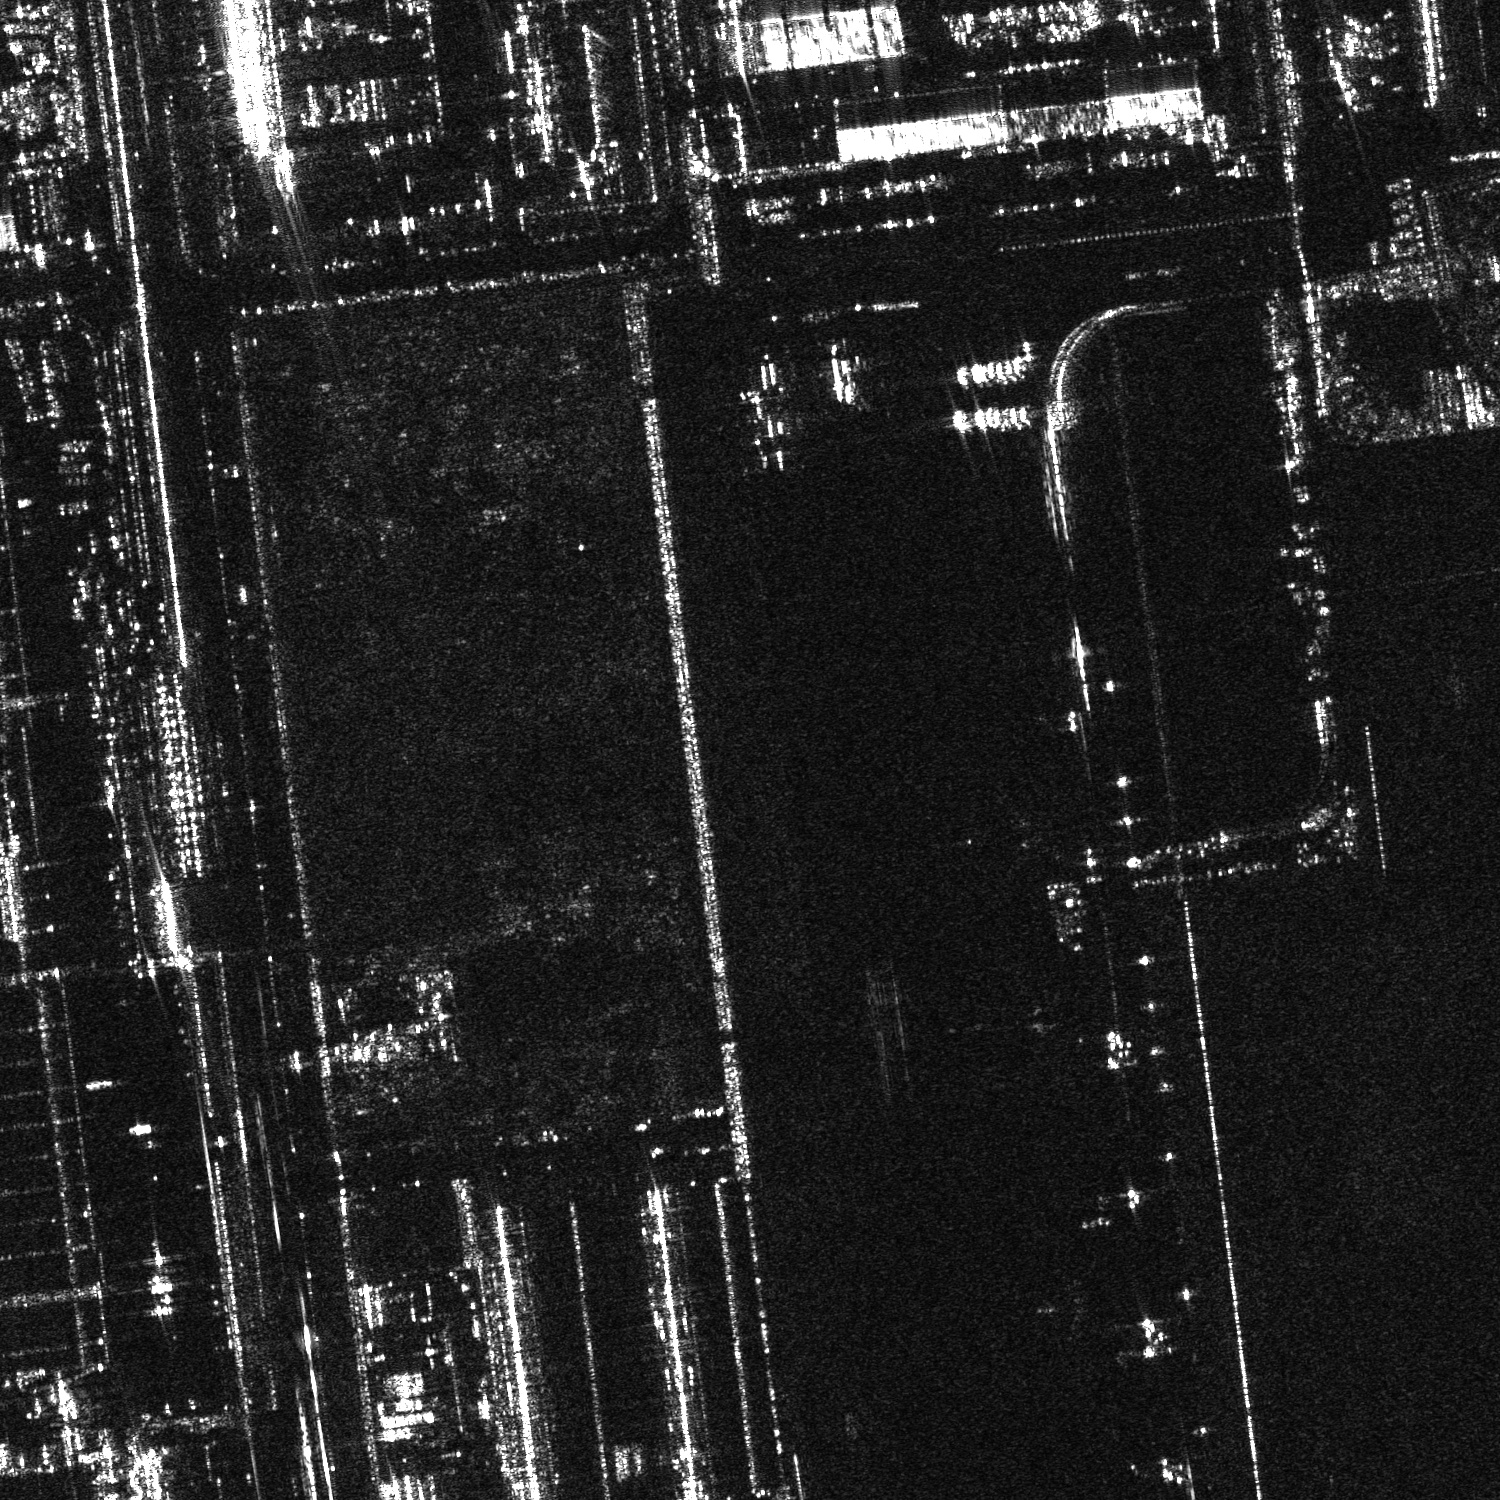Boeing787: (1029, 1268, 1106, 1343), (815, 342, 874, 405)
other: (718, 376, 795, 471)
